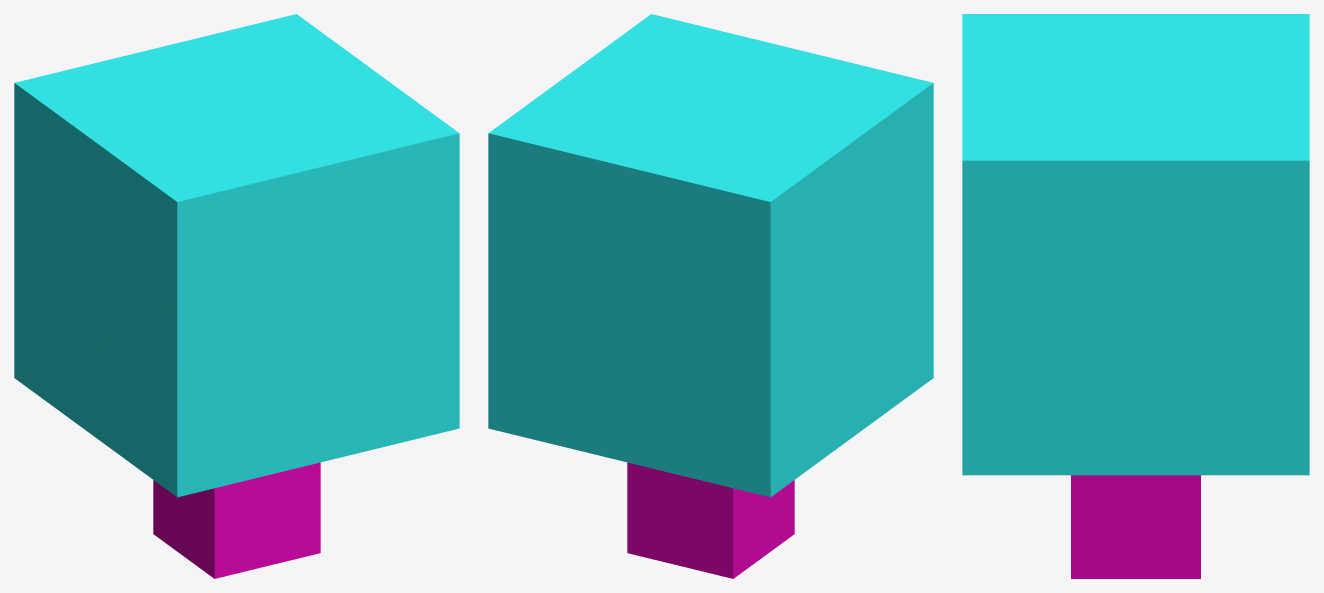
File: fabric_test_V01.fbx
3 renders of one model, left to right at view 1: azimuth 30°, elevation 25°; view 2: azimuth 150°, elevation 25°; view 3: azimuth 270°, elevation 25°, orthographic. The views are drawn at different scales.
Parts seen in each view (by area): view 1: Cube.001; view 2: Cube.001; view 3: Cube.001.
Part boxes in pixels (<box>): Cube.001: <box>14,14,459,578</box>; Cube.001: <box>488,14,933,578</box>; Cube.001: <box>962,14,1309,578</box>.
Size of the model in its own units: 200 by 295 by 200.
